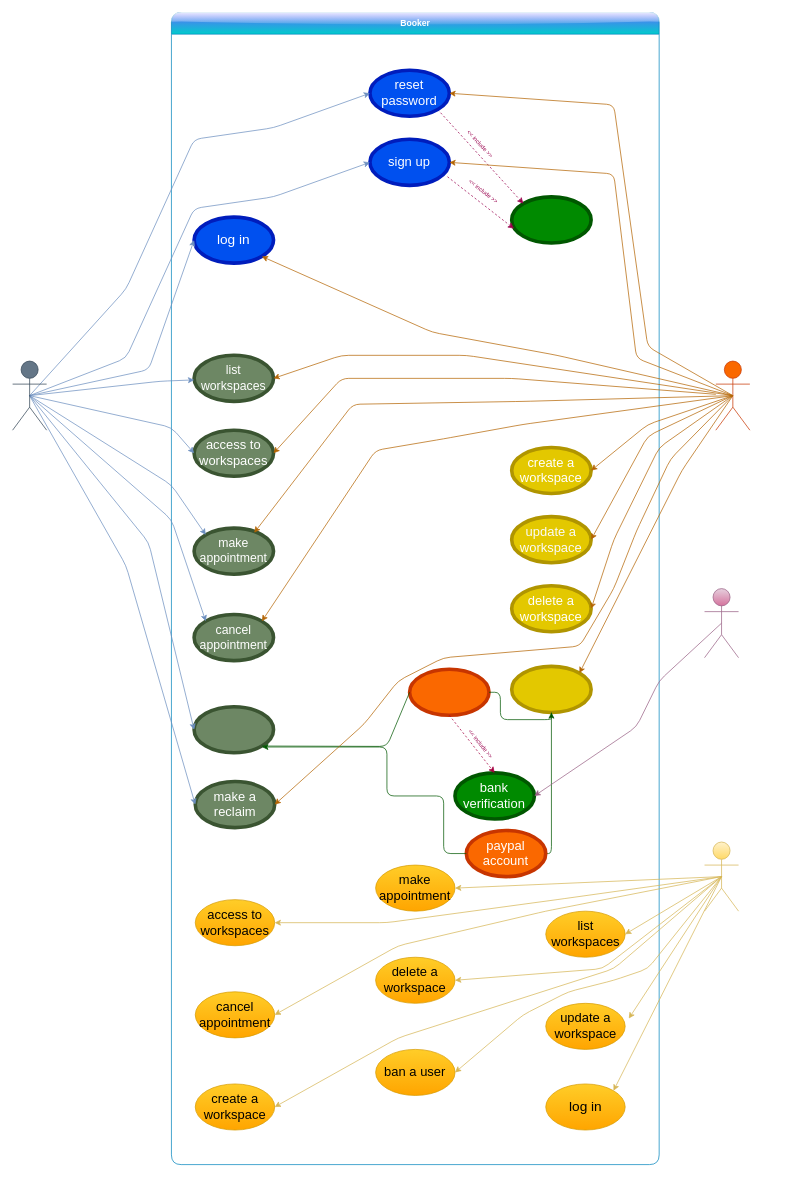
The diagram is 787 pixels wide and 1177 high, and some of its shapes have lost their labels. The box of each missing label's shape, as (x1, y1, x2, y2) in pixels:
accout verification: (510, 195, 593, 244)
Admin: (704, 841, 739, 911)
bank card: (407, 667, 490, 717)
bank service: (704, 588, 739, 658)
monthly payment: (510, 664, 593, 714)
Premium User: (715, 360, 750, 430)
upgrade to premium: (192, 705, 275, 754)
User: (12, 360, 47, 430)
